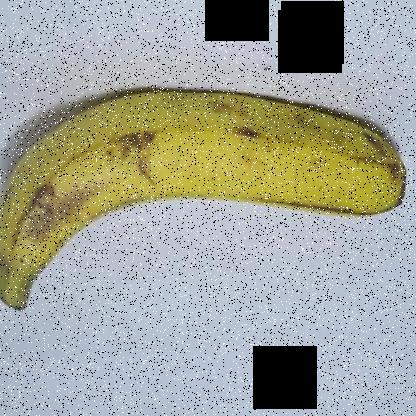ripe: (1, 56, 415, 330)
